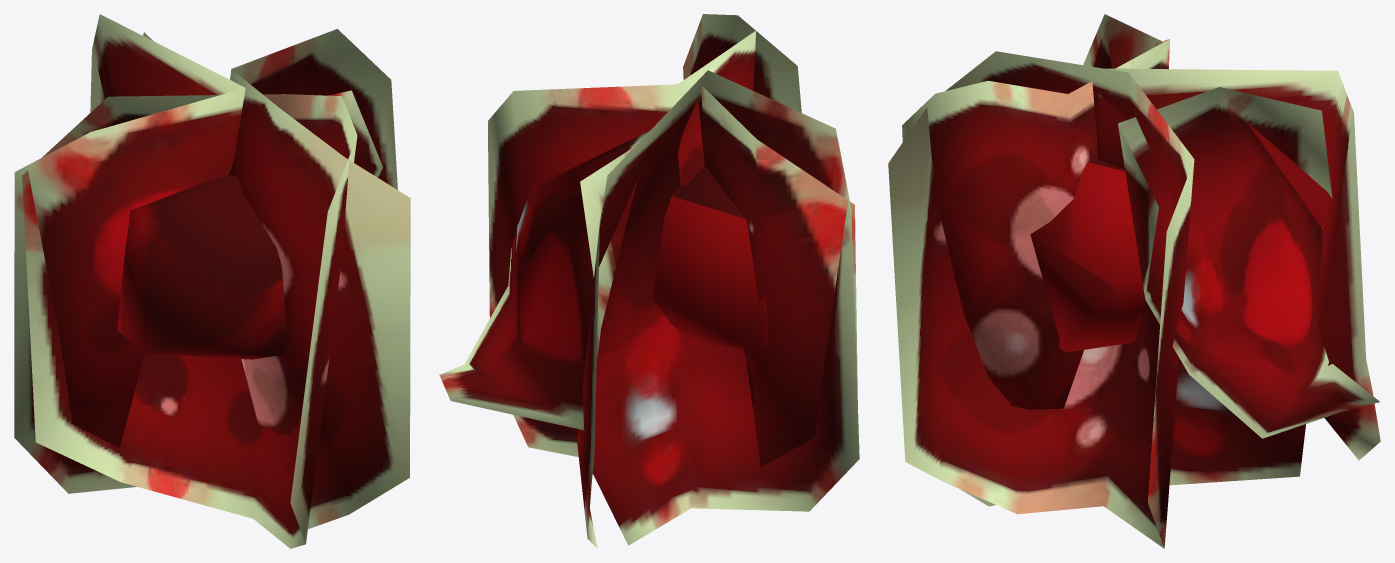
The model's file is Zombie_Broken_Nurse_Head02_d6e56e5d__Zombie_Broken_Green_0_bb717ba8_c1f257.obj.
3 views of the same model, side by side, from view 1: azimuth 30°, elevation 25°; view 2: azimuth 150°, elevation 25°; view 3: azimuth 270°, elevation 25° (orthographic). The views are drawn at different scales.
Size of the model in its own units: 0.6819 by 0.7392 by 0.7311.
Materials: 1 (1 with a texture image).
